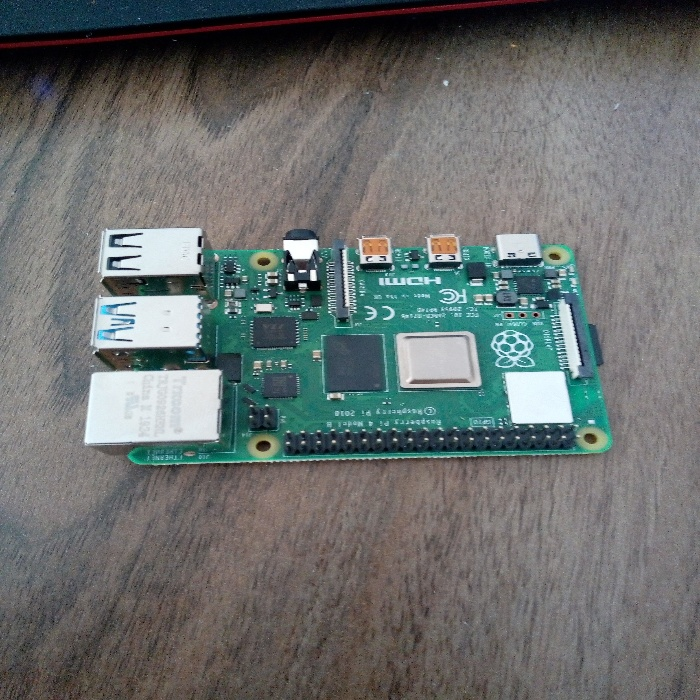raspberry: (70, 205, 630, 479)
